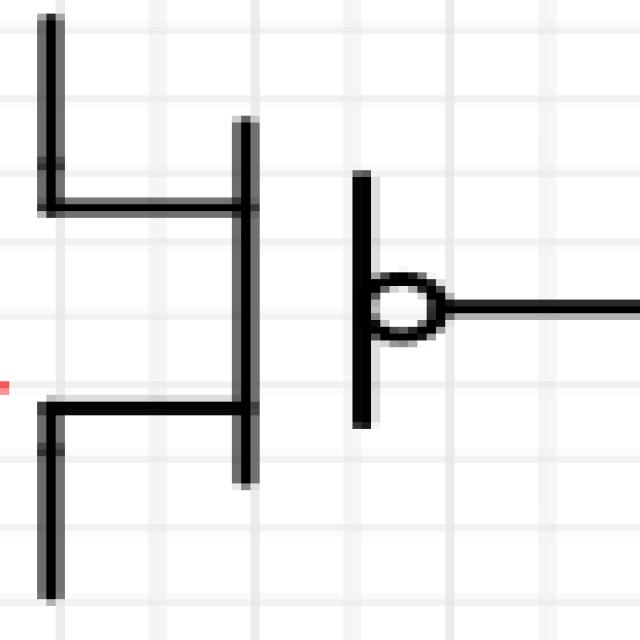pmos: (19, 18, 622, 570)
